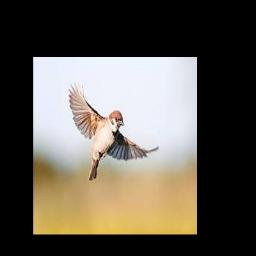Sparrow: (68, 80, 159, 180)
